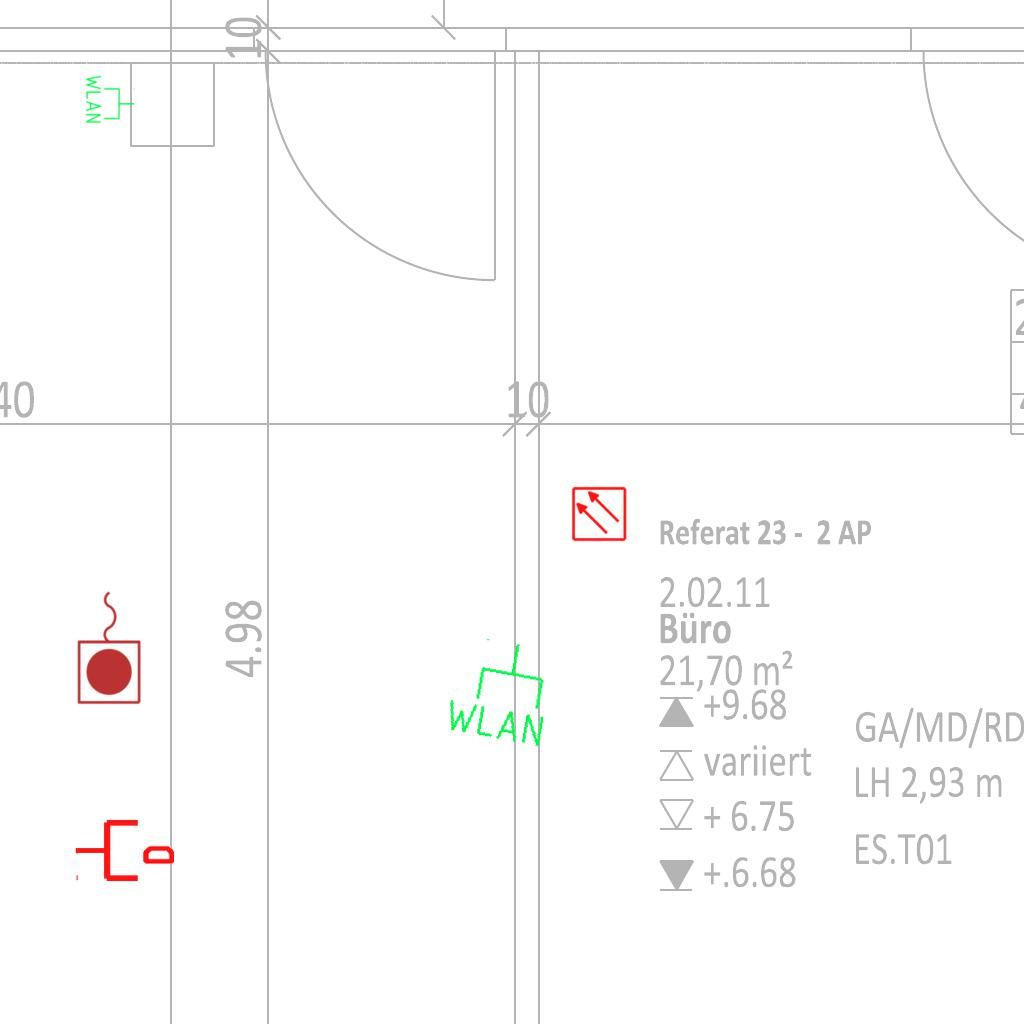Datenanschluss_einfach: (74, 816, 174, 885)
RMO_Rauchmelder_optischer: (571, 486, 627, 542)
WLAN: (439, 630, 561, 751), (84, 73, 136, 125)
Zugtaster: (74, 586, 146, 708)
